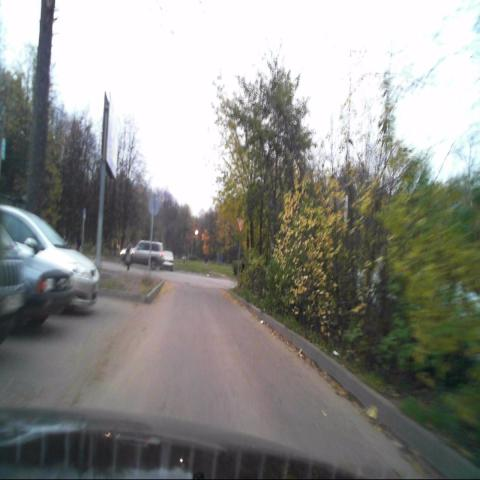2_4: (236, 216, 246, 234)
